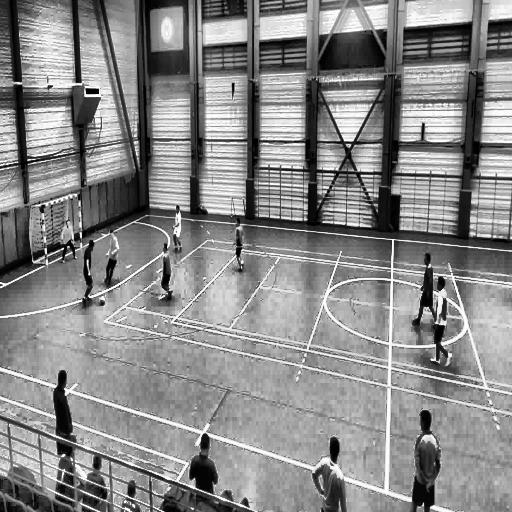ball: (100, 296, 105, 304)
player: (401, 411, 440, 512), (314, 436, 347, 512), (430, 275, 451, 370), (52, 370, 73, 452), (412, 253, 435, 327), (104, 229, 119, 287), (82, 240, 94, 306), (161, 241, 173, 300), (61, 218, 77, 262), (235, 217, 244, 274), (172, 204, 182, 253)
